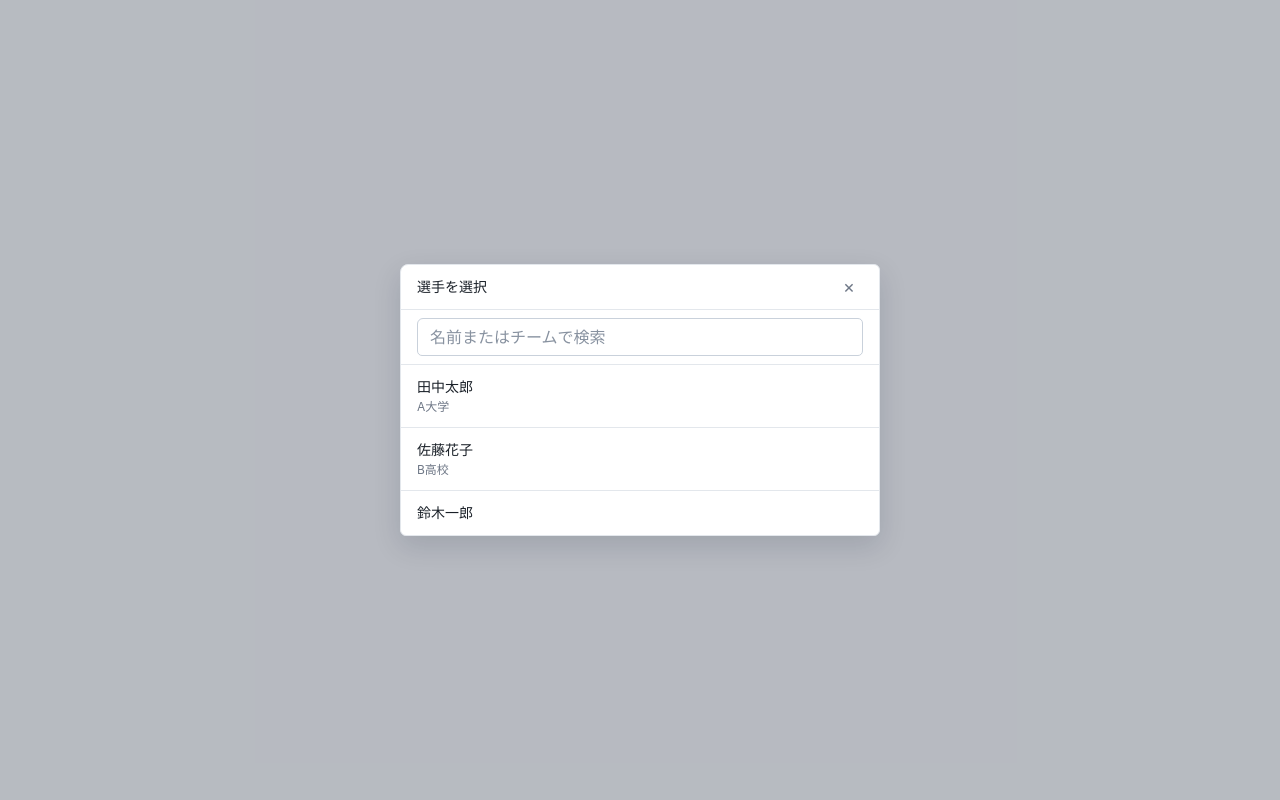
Test: PlayerSelectorSheet › 検索でフィルタされる (名前一致)
Type "佐藤" into the search field at (640, 337), box [417,318,863,356]
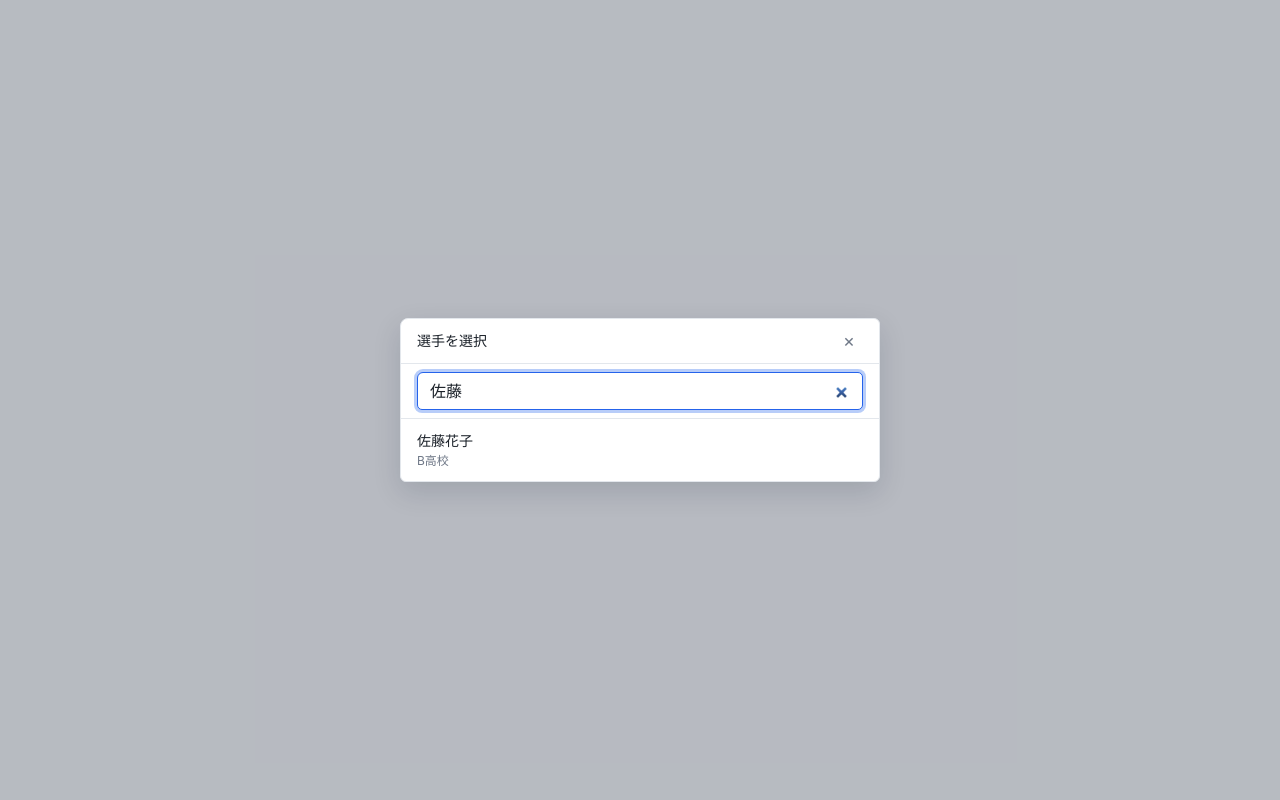
Expected: the text "佐藤花子" is shown, [417,431,473,451]
Expected: the button "田中太郎" is gone
